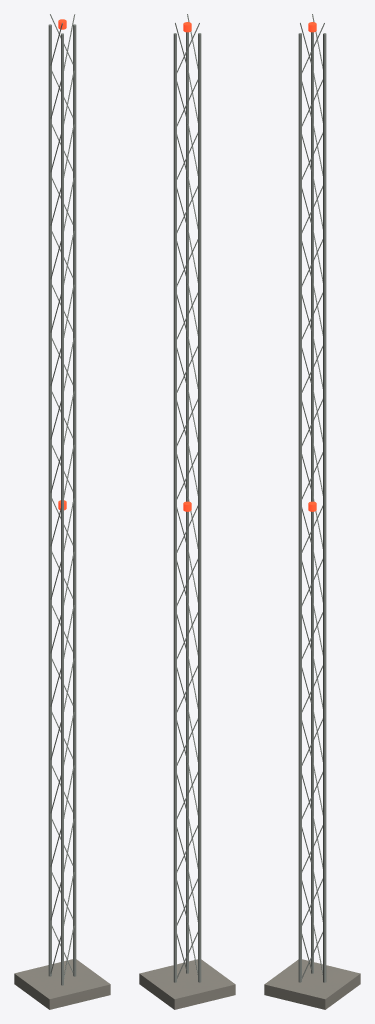
File: SM_1420_Mast.fbx
The picture shows the model from 3 angles, left to right: view 1: azimuth 30°, elevation 25°; view 2: azimuth 210°, elevation 25°; view 3: azimuth 330°, elevation 25°; orthographic projection.
Visible parts, largest first — view 1: SM_1420_Mast; view 2: SM_1420_Mast; view 3: SM_1420_Mast.
Part boxes in pixels (left/top/right/bottom): SM_1420_Mast: left=14, top=14, right=110, bottom=1009; SM_1420_Mast: left=139, top=14, right=235, bottom=1009; SM_1420_Mast: left=264, top=14, right=360, bottom=1009.
Bounding box in the file's own units: 1.2 × 1.2 × 18.2.
